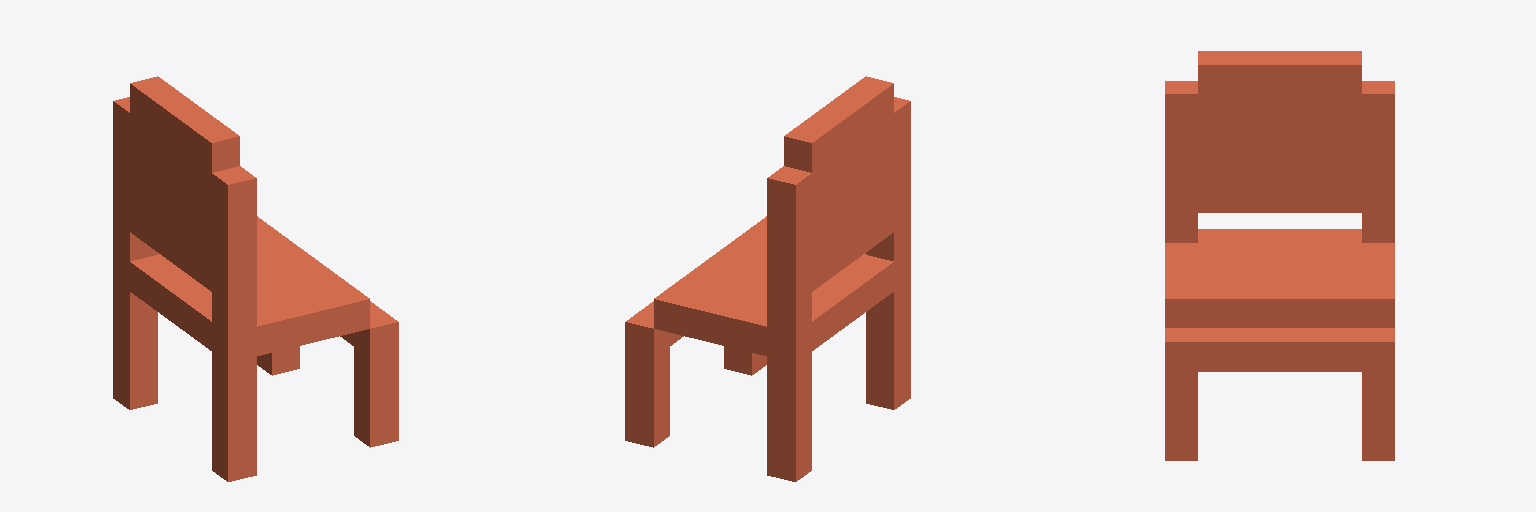
The picture shows the model from 3 angles: view 1: azimuth 30°, elevation 25°; view 2: azimuth 150°, elevation 25°; view 3: azimuth 270°, elevation 25°; orthographic projection.
Visible parts, largest first — view 1: chair; view 2: chair; view 3: chair.
Boxes of the visible parts, x1,y1,x2,y2 form: chair: [113, 76, 398, 481]; chair: [625, 76, 910, 481]; chair: [1165, 51, 1394, 460].
Bounding box in the file's own units: 0.6 × 1.1 × 0.7.
1 materials, 1 textured.